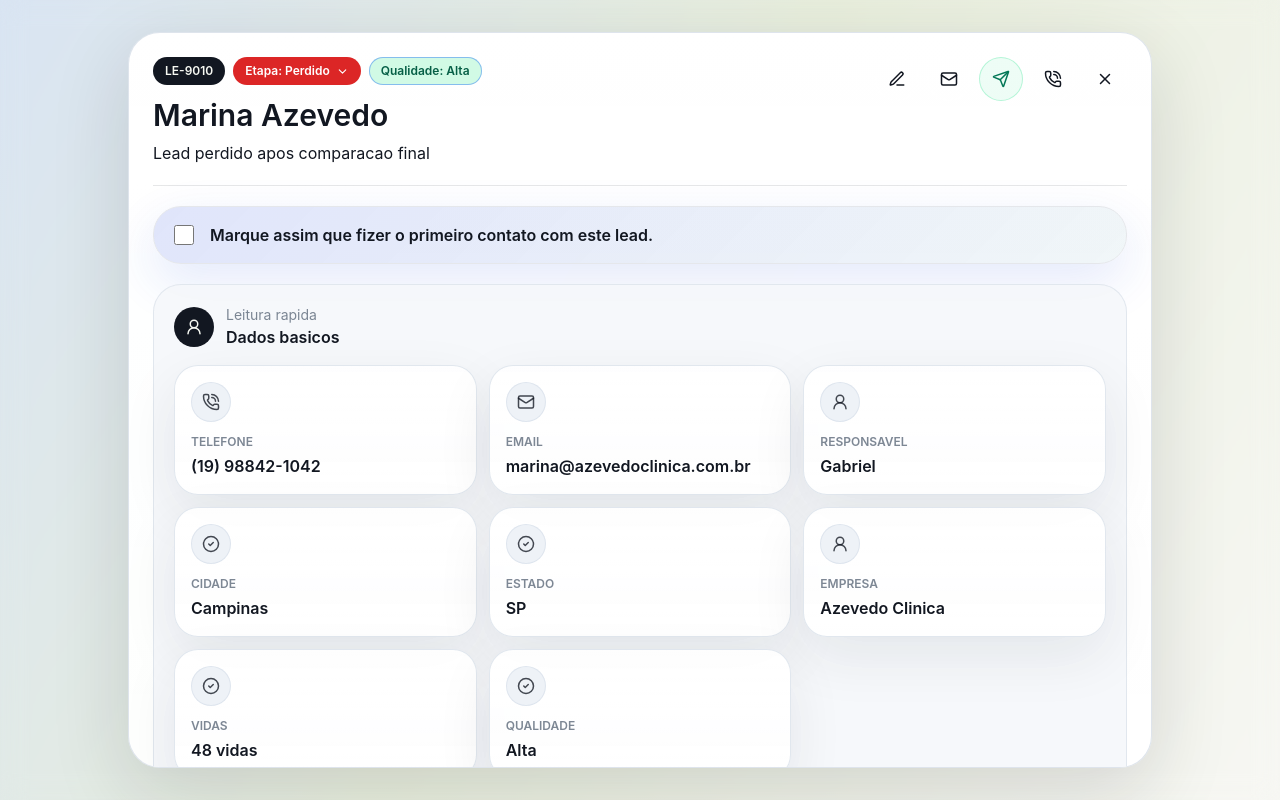
Scenario: LeadDetailsPopup › permite editar motivo de perda para leads perdidos
expect the text "Fechou com a operadora atual por menor reajuste." is not shown: met
Click the button titled "Editar lead" at point(897, 79), box [875, 57, 919, 101]
(page scrolled)
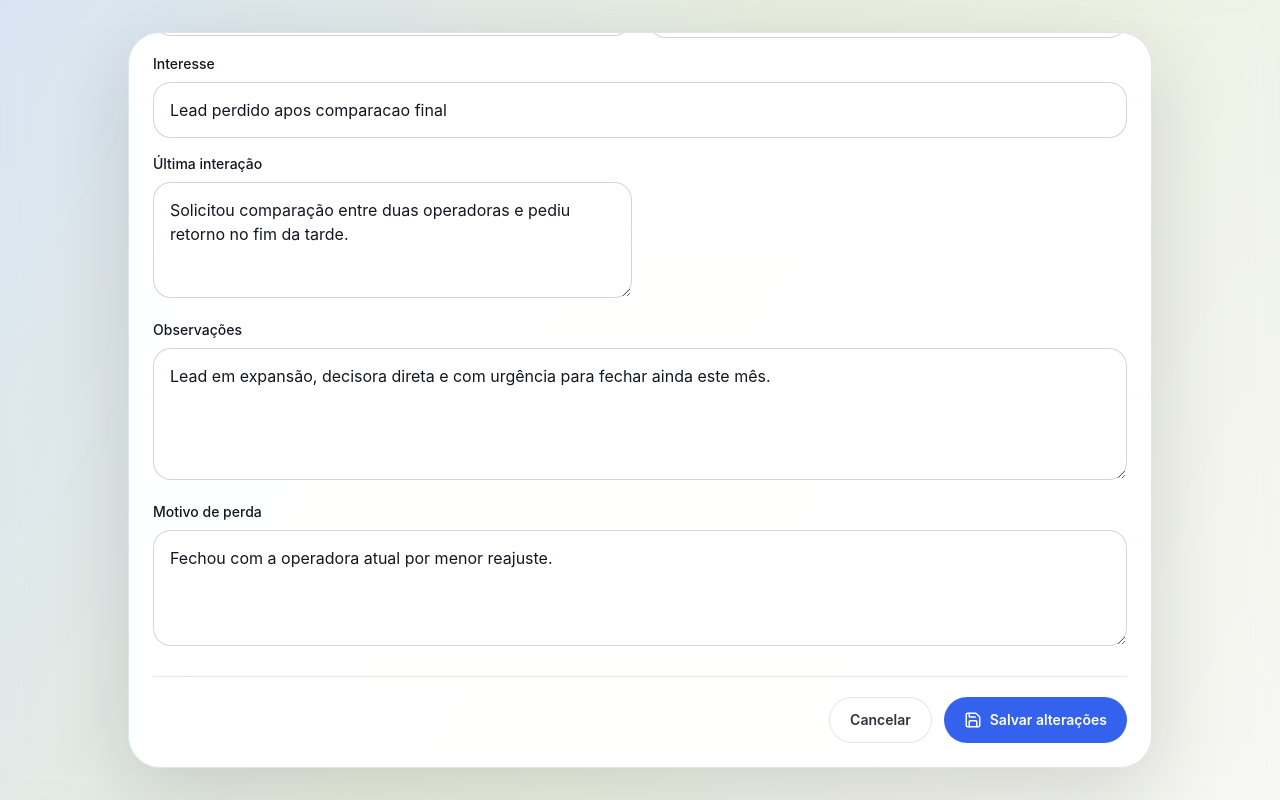
expect the text box labelled "Motivo de perda" holds "Fechou com a operadora atual por menor reajuste.": met, box [153, 530, 1127, 646]
